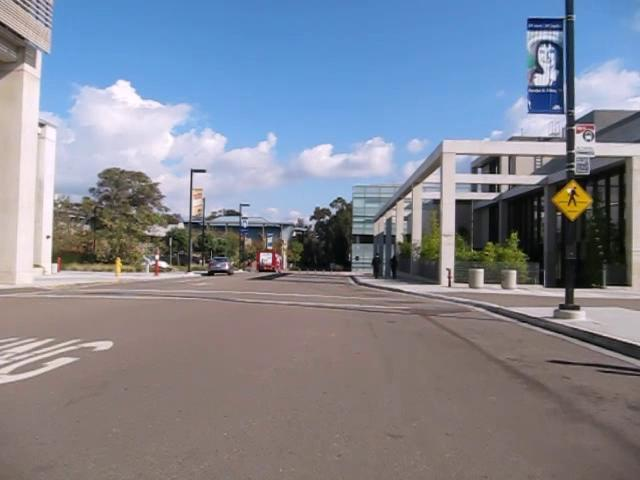pedestrianCrossing: (550, 178, 594, 221)
